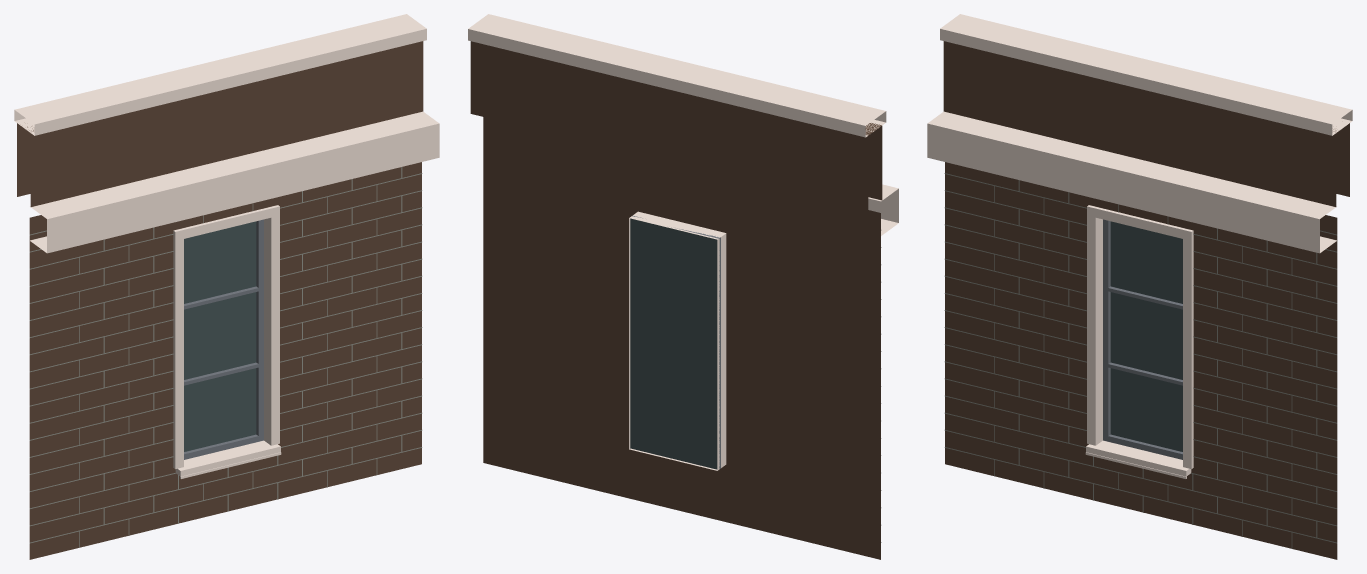
File: top-w2_close.fbx
3 renders of one model, left to right at view 1: azimuth 30°, elevation 25°; view 2: azimuth 150°, elevation 25°; view 3: azimuth 330°, elevation 25°, orthographic.
Visible parts, largest first — view 1: a2001/800/top-w2_close; view 2: a2001/800/top-w2_close; view 3: a2001/800/top-w2_close.
Part boxes in pixels (bbox=[...]): a2001/800/top-w2_close: bbox=[14, 14, 439, 559]; a2001/800/top-w2_close: bbox=[468, 14, 898, 559]; a2001/800/top-w2_close: bbox=[927, 14, 1352, 559].
Size of the model in its own units: 3.6 by 3.85 by 0.52.
